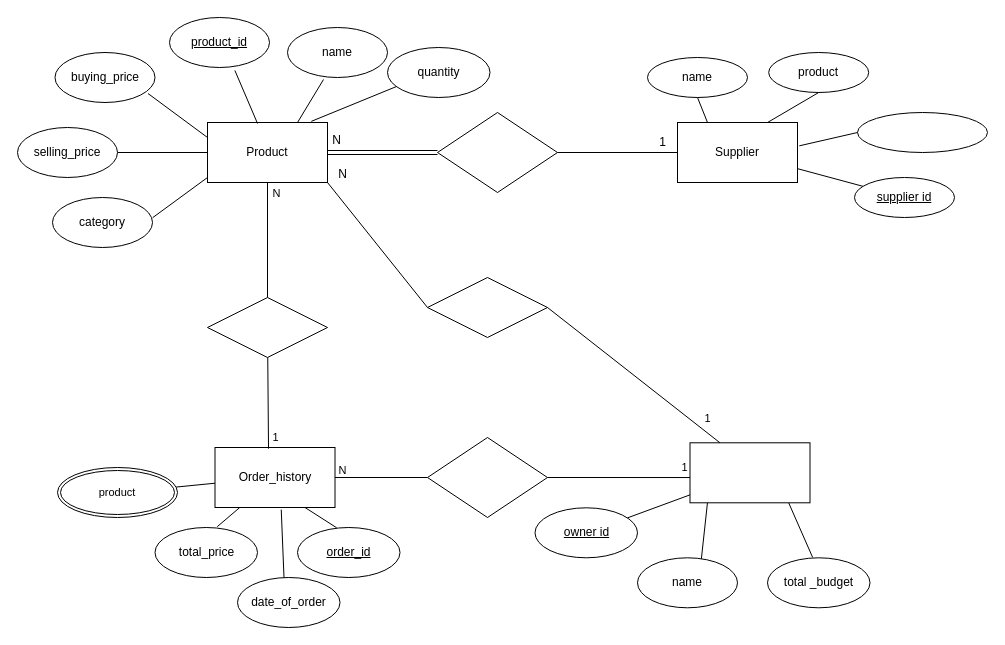
This 1005x645 diagram has some shape labels left out. Each missing label, with the centre of its shape:
"bought_by" goes at [487,307].
"Business_owner" goes at [749,472].
"contained_in" goes at [267,327].
"location_of_origin" goes at [922,132].
"owned_by" goes at [497,152].
"viewed_by" goes at [487,477].
